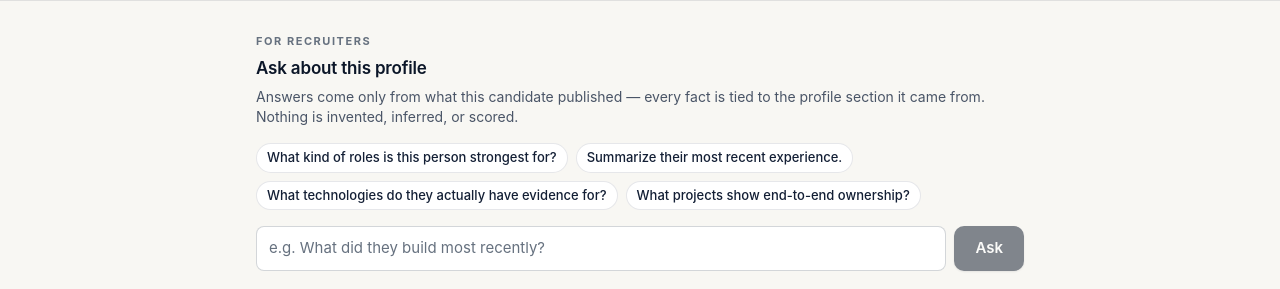
it: RecruiterAsk component › shows the truthful unavailable state when the AI key is missing
Type "Hello?" into the field named "your question about this profile" at (601, 248), box [256,226,946,270]
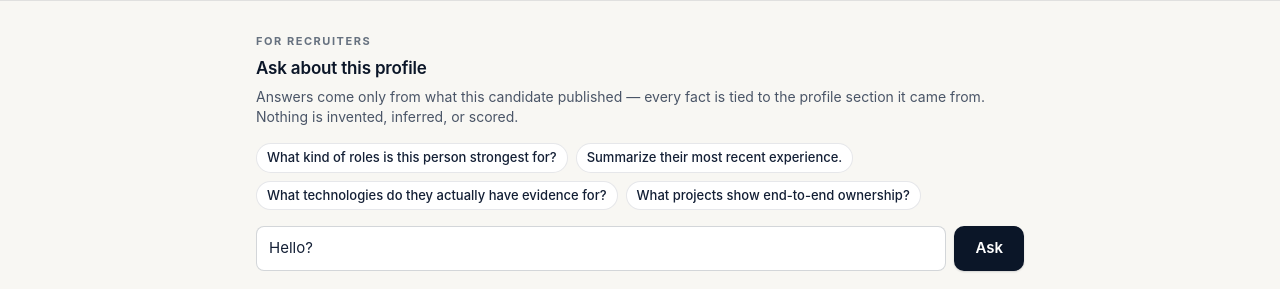
Click the button "Ask" at (989, 248), box [954,226,1024,270]
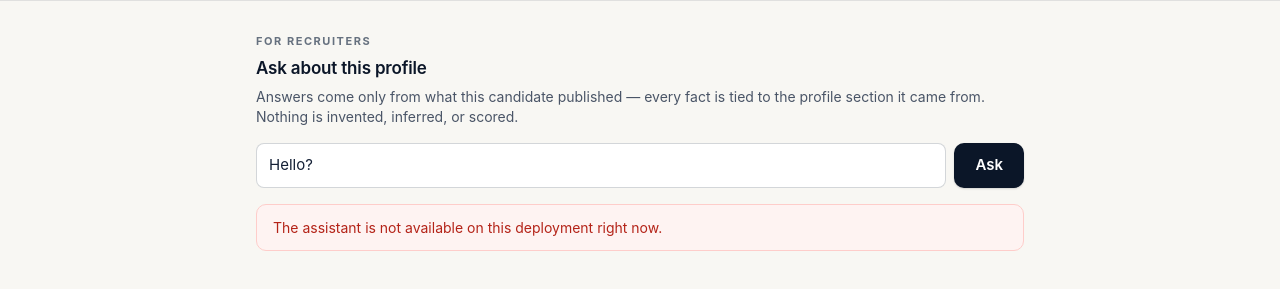
Now the text "The assistant is not available on this deployment right now." is shown, box [256,204,1024,250]
